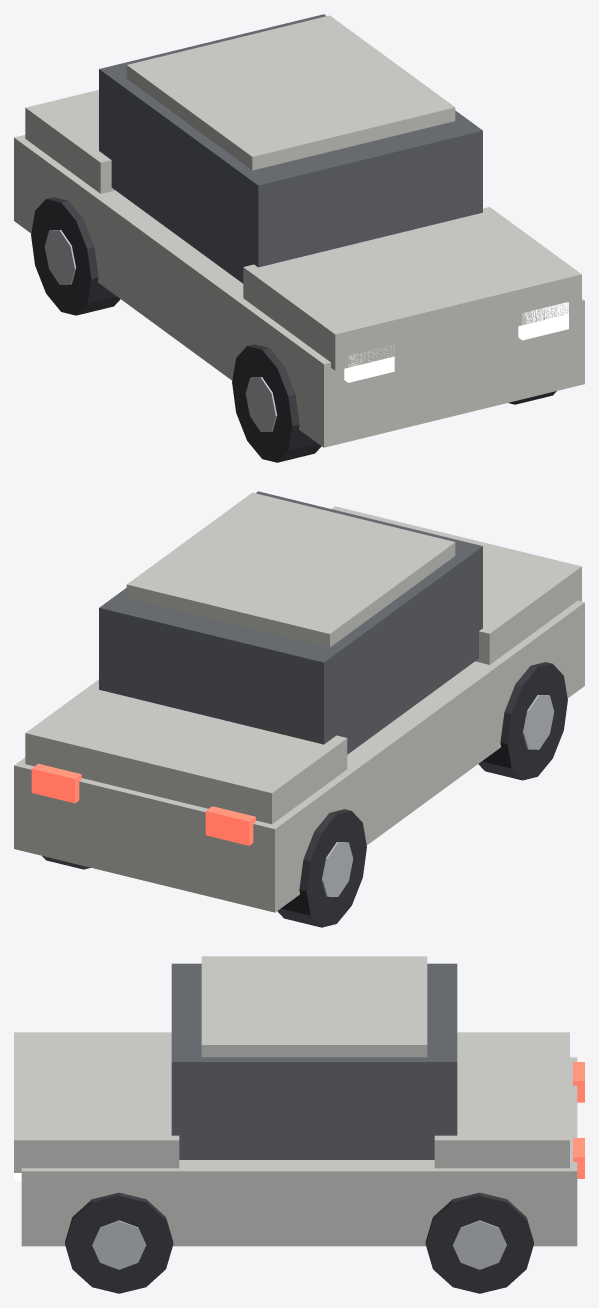
The model's file is car_white.glb.
3 views of the same model, one above another, from view 1: azimuth 30°, elevation 25°; view 2: azimuth 150°, elevation 25°; view 3: azimuth 270°, elevation 25° (orthographic). The views are drawn at different scales.
Parts seen in each view (by area): view 1: car_white; view 2: car_white; view 3: car_white.
Part boxes in pixels (x1=…): car_white: x1=14, y1=14, x2=584, y2=462; car_white: x1=14, y1=491, x2=584, y2=927; car_white: x1=14, y1=956, x2=584, y2=1293.
Bounding box in the file's own units: 1.92 × 1.71 × 3.8.
